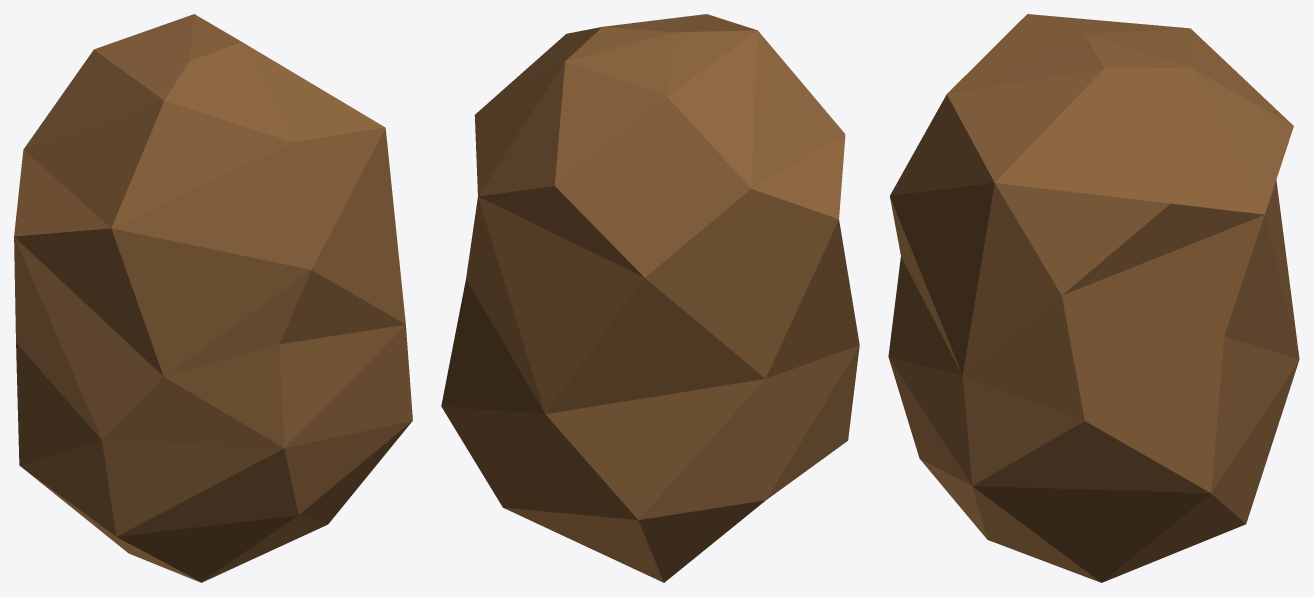
Rendered from roche3.fbx.
3 views of the same model, side by side, from view 1: azimuth 30°, elevation 25°; view 2: azimuth 150°, elevation 25°; view 3: azimuth 270°, elevation 25° (orthographic). The views are drawn at different scales.
Visible parts, largest first — view 1: Roche; view 2: Roche; view 3: Roche.
Boxes of the visible parts, bbox=[...] form: Roche: bbox=[14, 14, 412, 582]; Roche: bbox=[441, 14, 859, 582]; Roche: bbox=[888, 14, 1299, 582].
Size of the model in its own units: 433 by 596 by 415.
